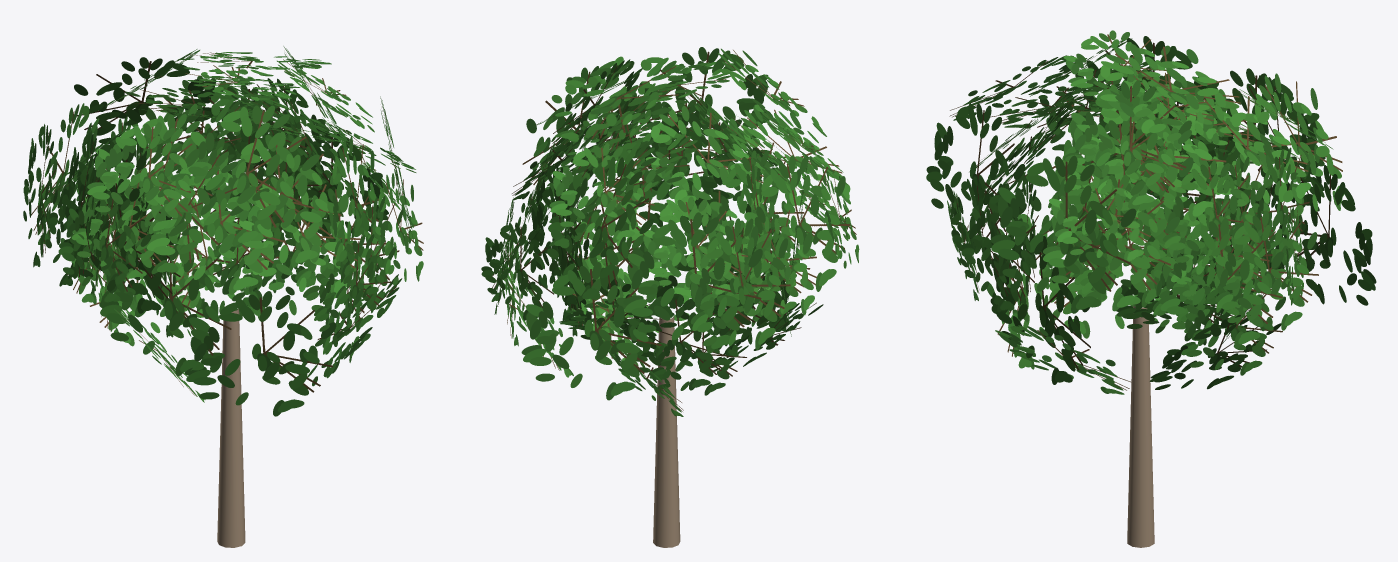
File: arvore_teste.glb
3 renders of one model, left to right at view 1: azimuth 30°, elevation 25°; view 2: azimuth 150°, elevation 25°; view 3: azimuth 270°, elevation 25°, orthographic. The views are drawn at different scales.
Parts seen in each view (by area): view 1: folhas, tronco; view 2: folhas, tronco; view 3: folhas, tronco.
Boxes of the visible parts, x1,y1,x2,y2 form: folhas: [23, 46, 423, 416]; tronco: [217, 309, 245, 547]; folhas: [481, 47, 859, 416]; tronco: [653, 316, 680, 547]; folhas: [926, 30, 1376, 394]; tronco: [1127, 306, 1154, 547].
Size of the model in its own units: 6.68 by 8.34 by 7.31.
2 materials, 1 textured.
